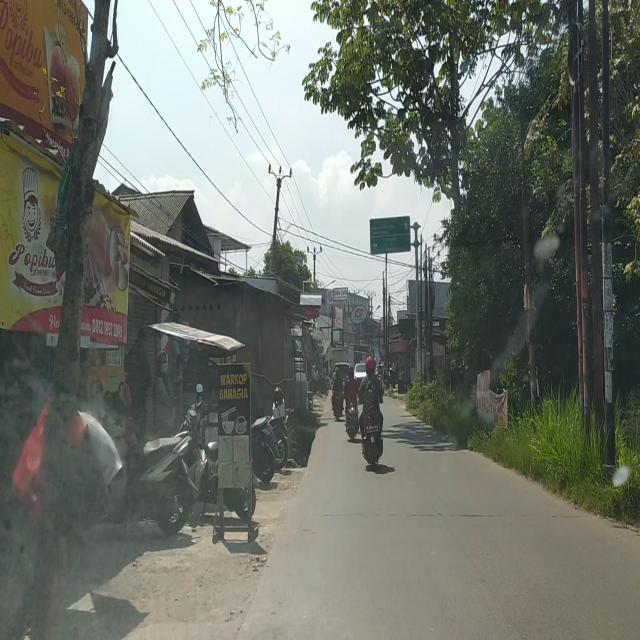Sewer Cover: (320, 503, 577, 522)
